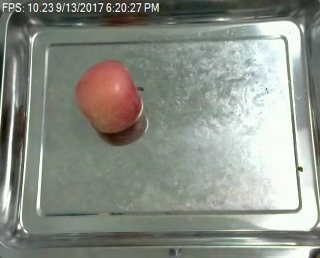Apple: (72, 57, 145, 139)
